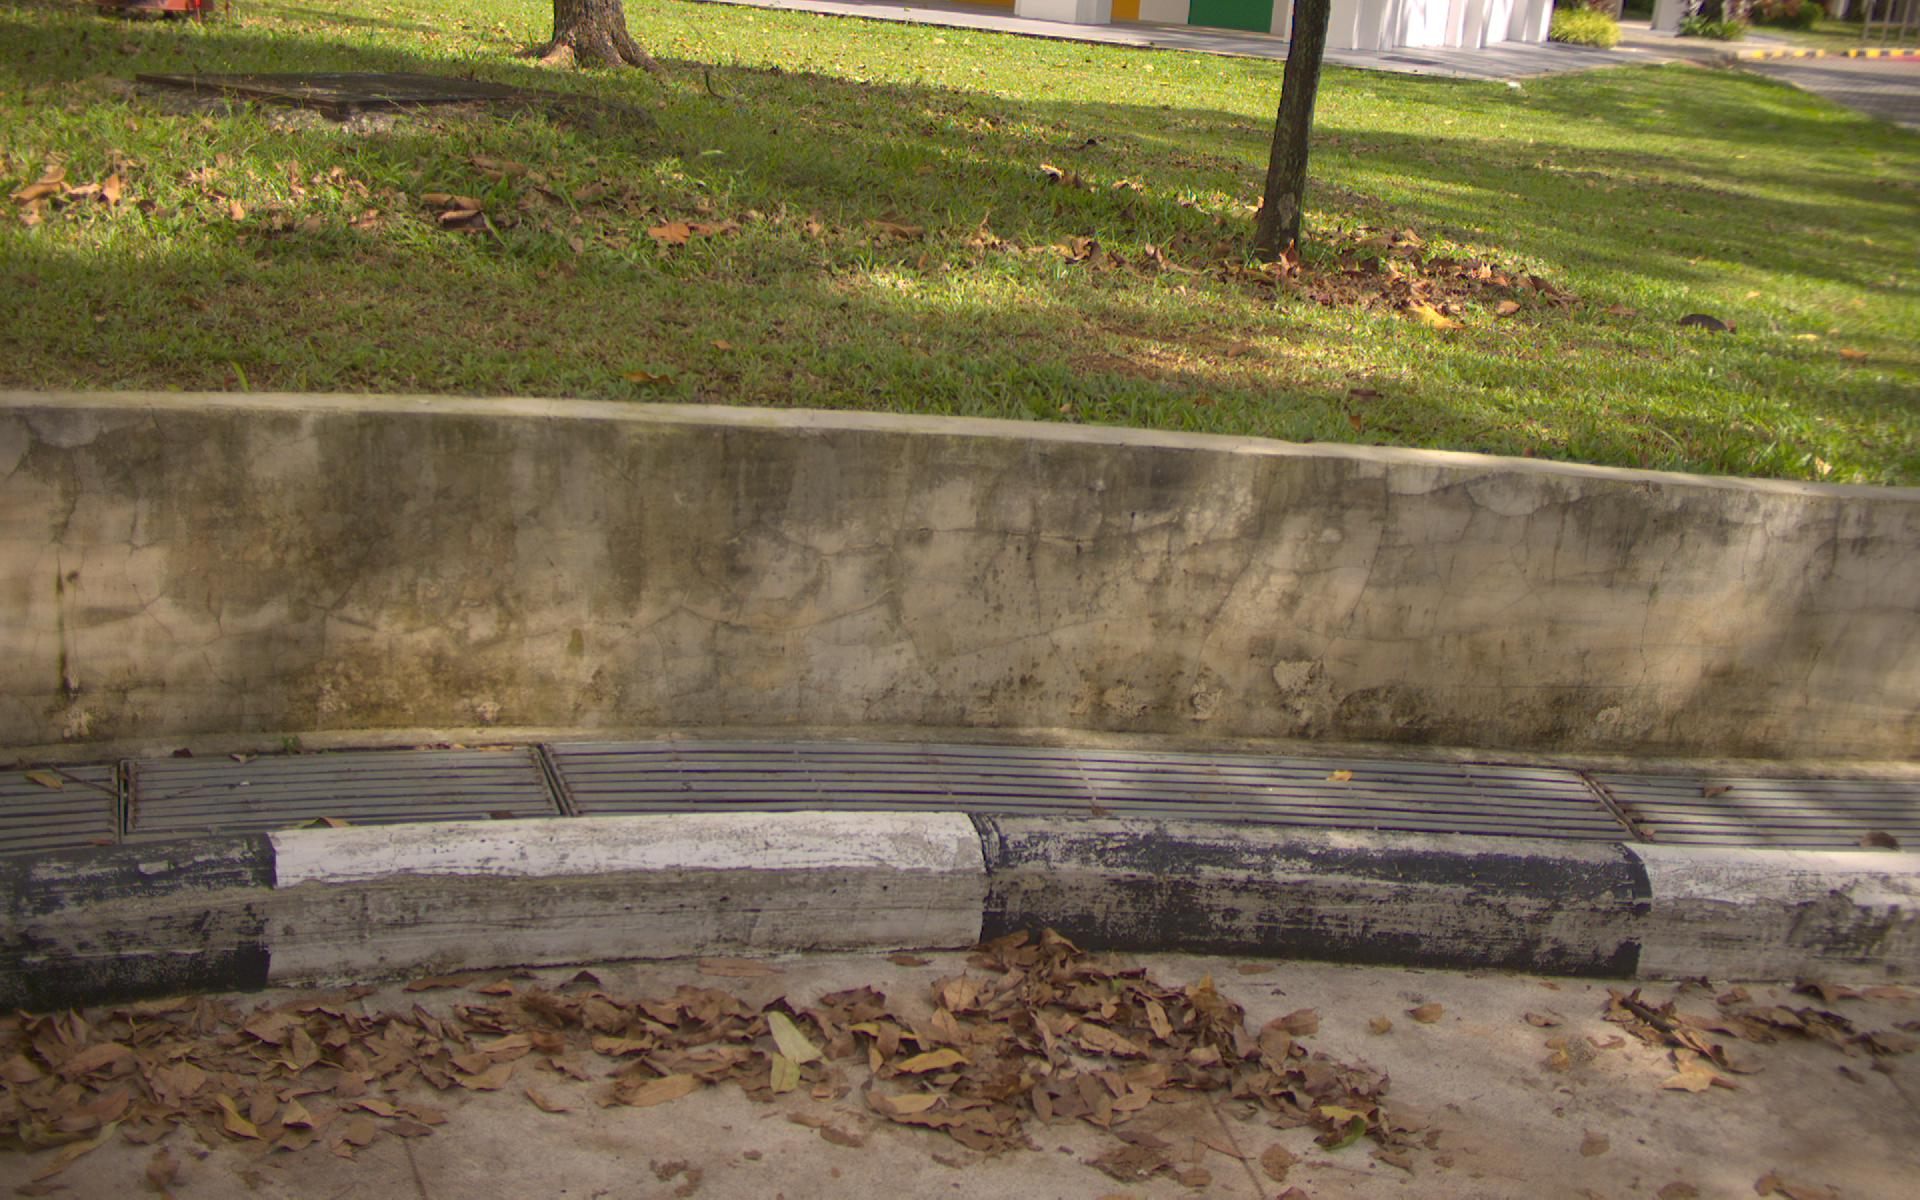curb_dic_low: (294, 711, 1892, 806)
road_curb_medium: (43, 1005, 1920, 1192)
road_turf_low: (10, 134, 1902, 362)
